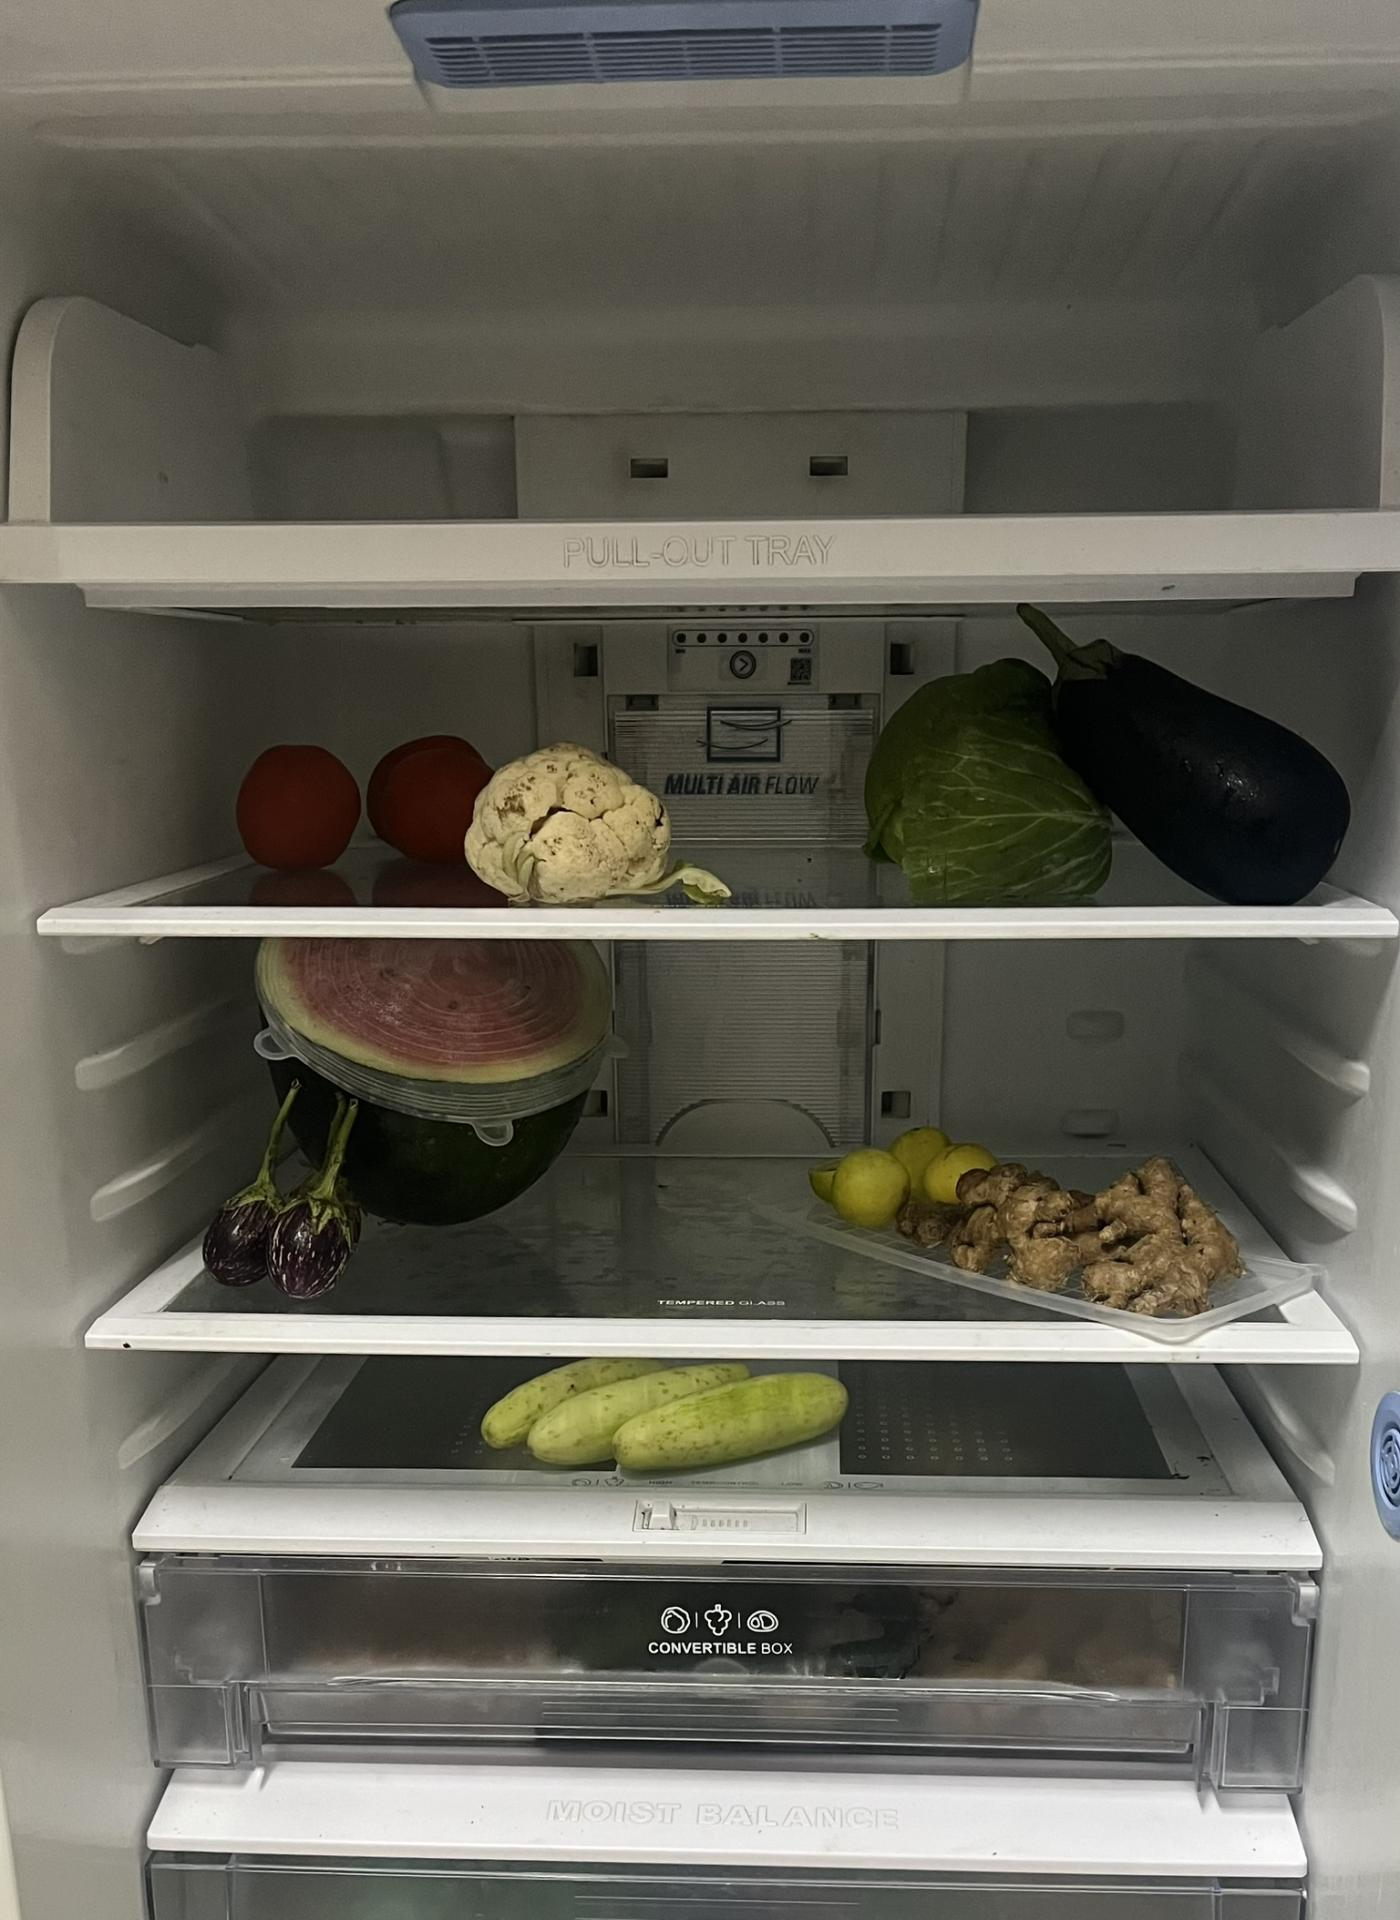brinjal: (1018, 604, 1358, 896), (198, 1085, 365, 1295)
cabbage: (868, 668, 1129, 905)
cauliflower: (471, 745, 674, 902)
cucumber: (479, 1357, 844, 1474)
ginger: (898, 1169, 1251, 1313)
lemon: (807, 1125, 1000, 1224)
tomato: (233, 738, 492, 866)
watermelon: (252, 932, 622, 1228)
